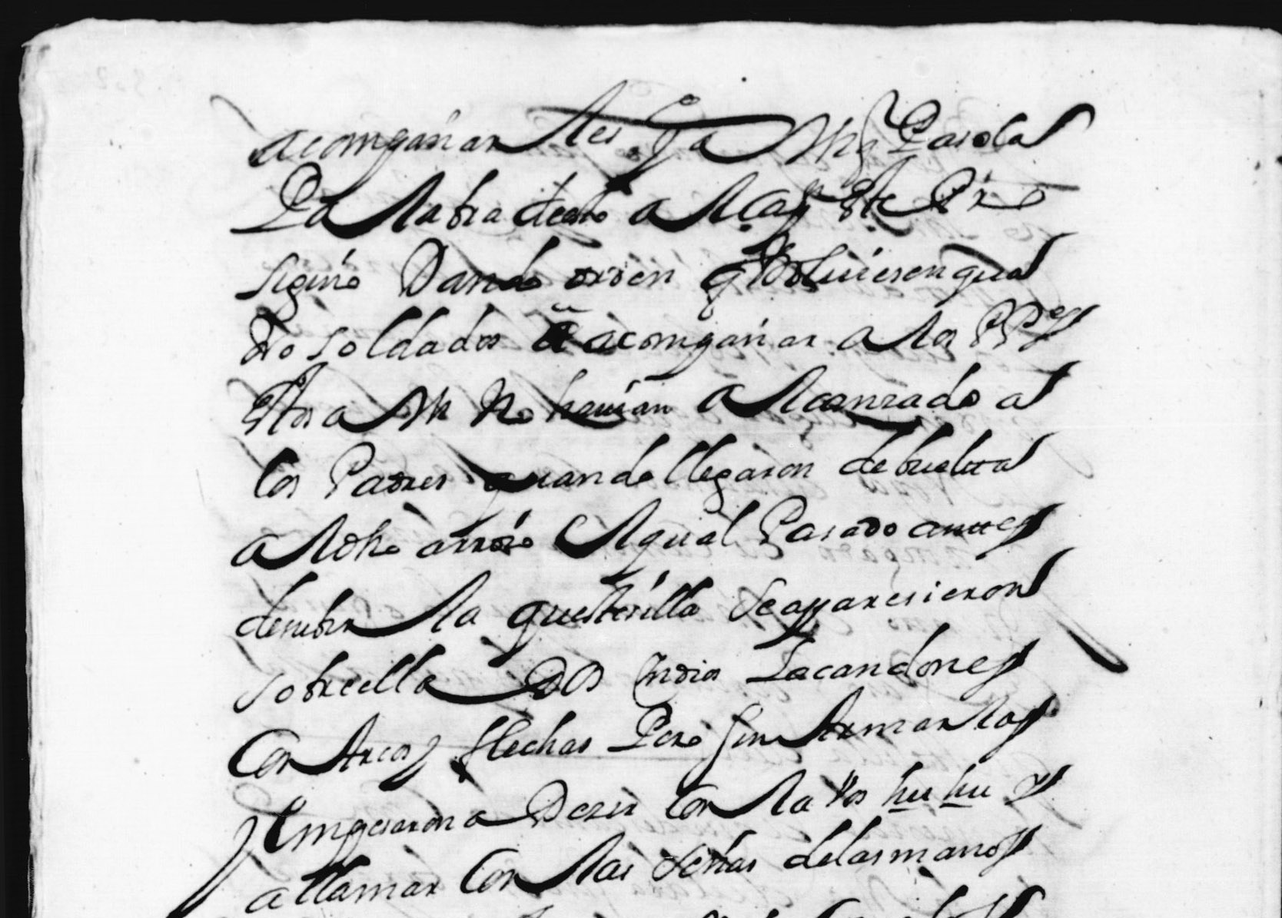lacandon: (746, 621, 1040, 701)
